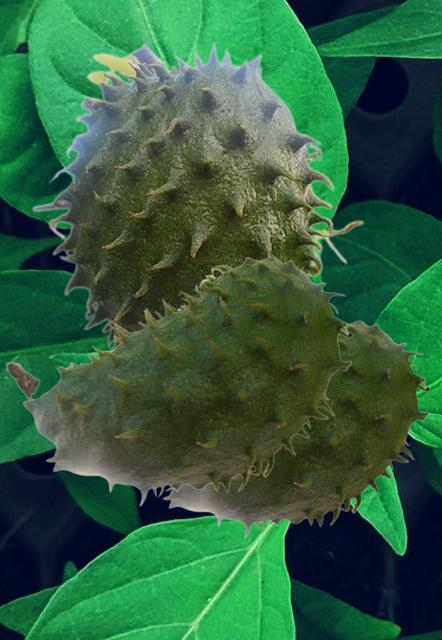guyabano: (31, 39, 364, 350), (5, 256, 352, 506), (162, 320, 429, 538)
